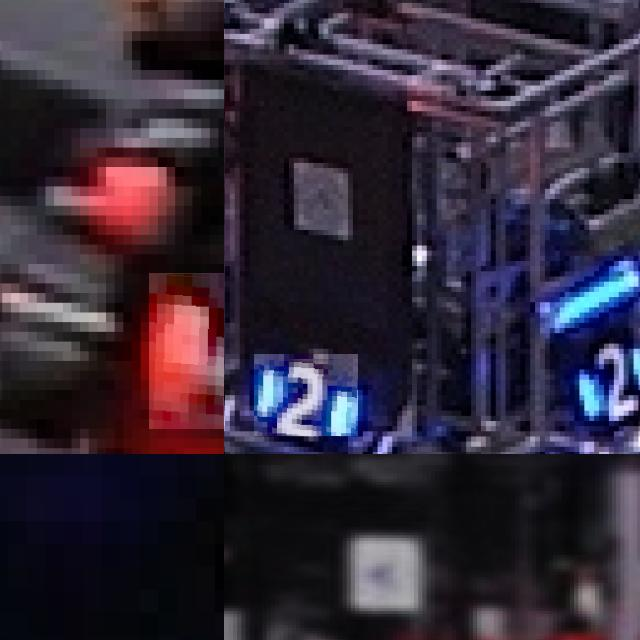B2: (254, 354, 358, 436), (569, 333, 640, 420)
R4: (149, 273, 224, 428)
